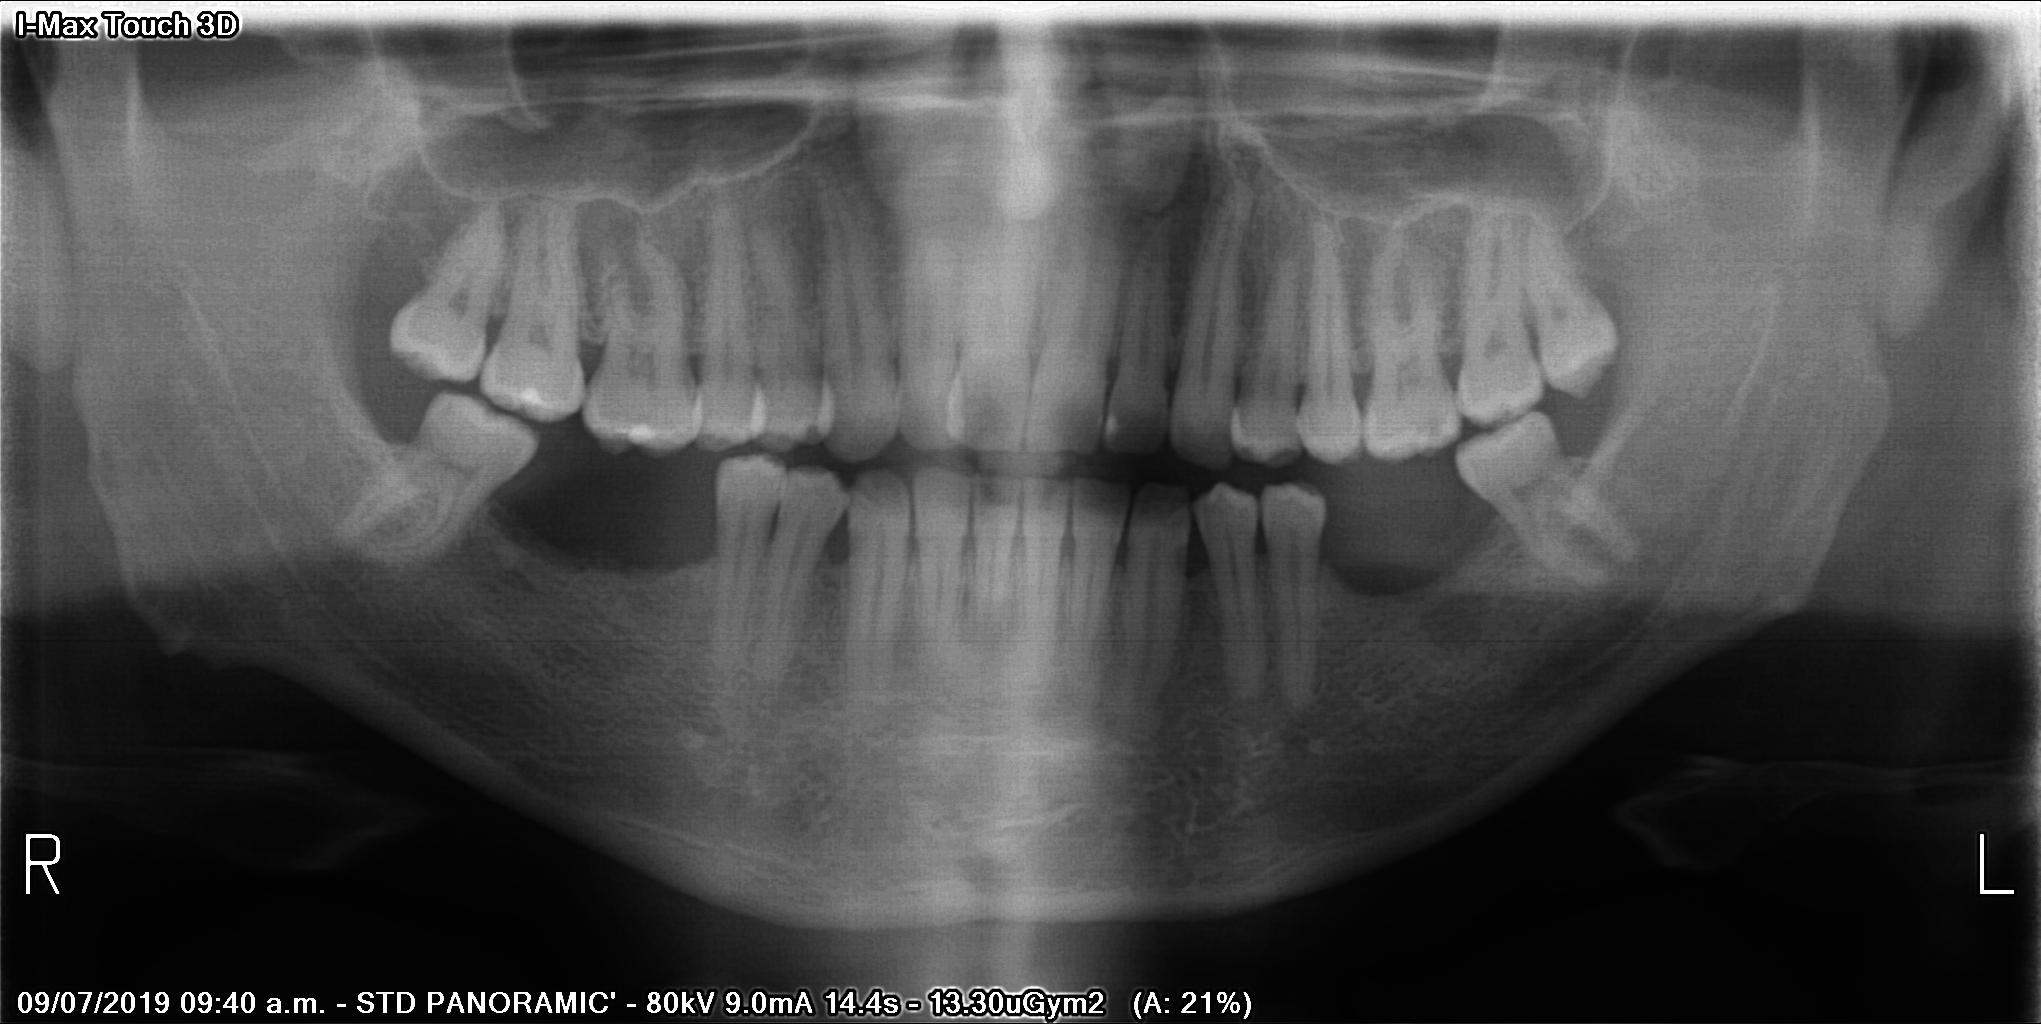Çürük: (610, 410, 675, 451), (501, 370, 562, 411)
